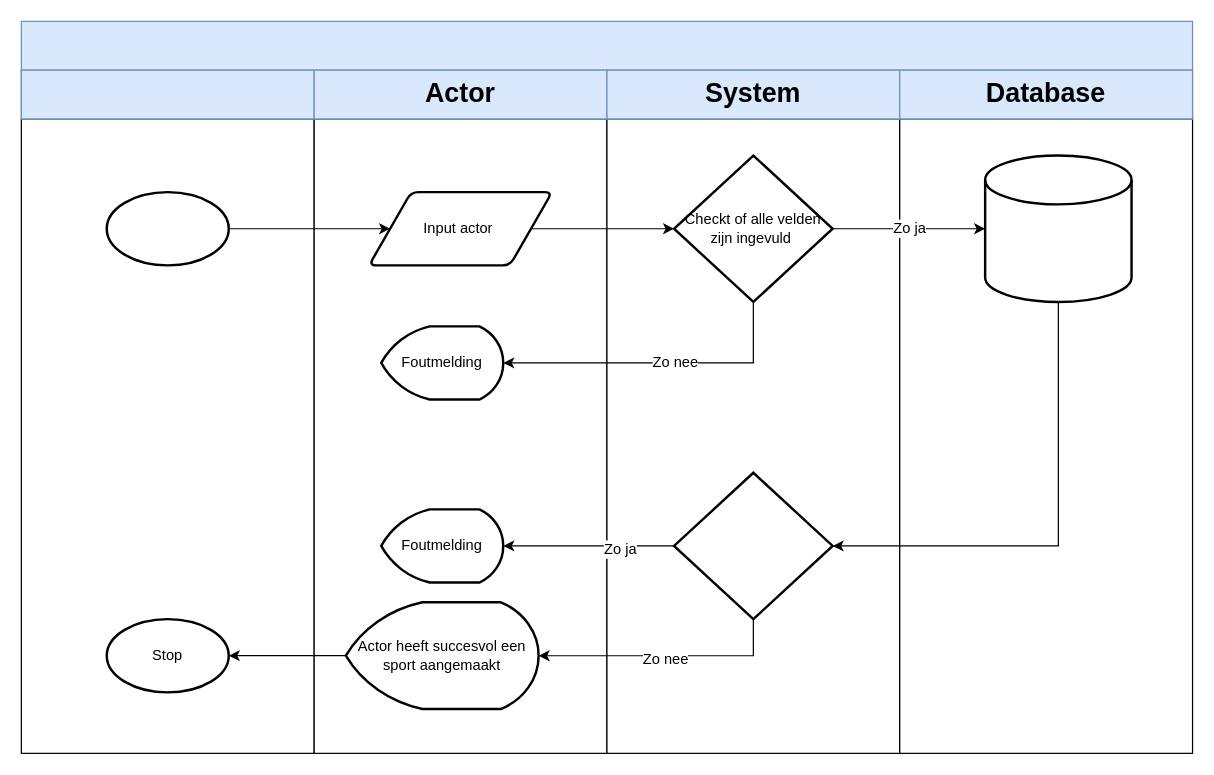
This 1214x775 diagram has some shape labels left out. Here are the shapes that lost their labels. From the top down, the box of each, then its label:
(20, 20, 1193, 70): Registreer docent
(105, 190, 229, 266): Start
(983, 154, 1132, 303): Slaat gegevens op
(672, 471, 833, 620): Checkt of sport al bestaat
